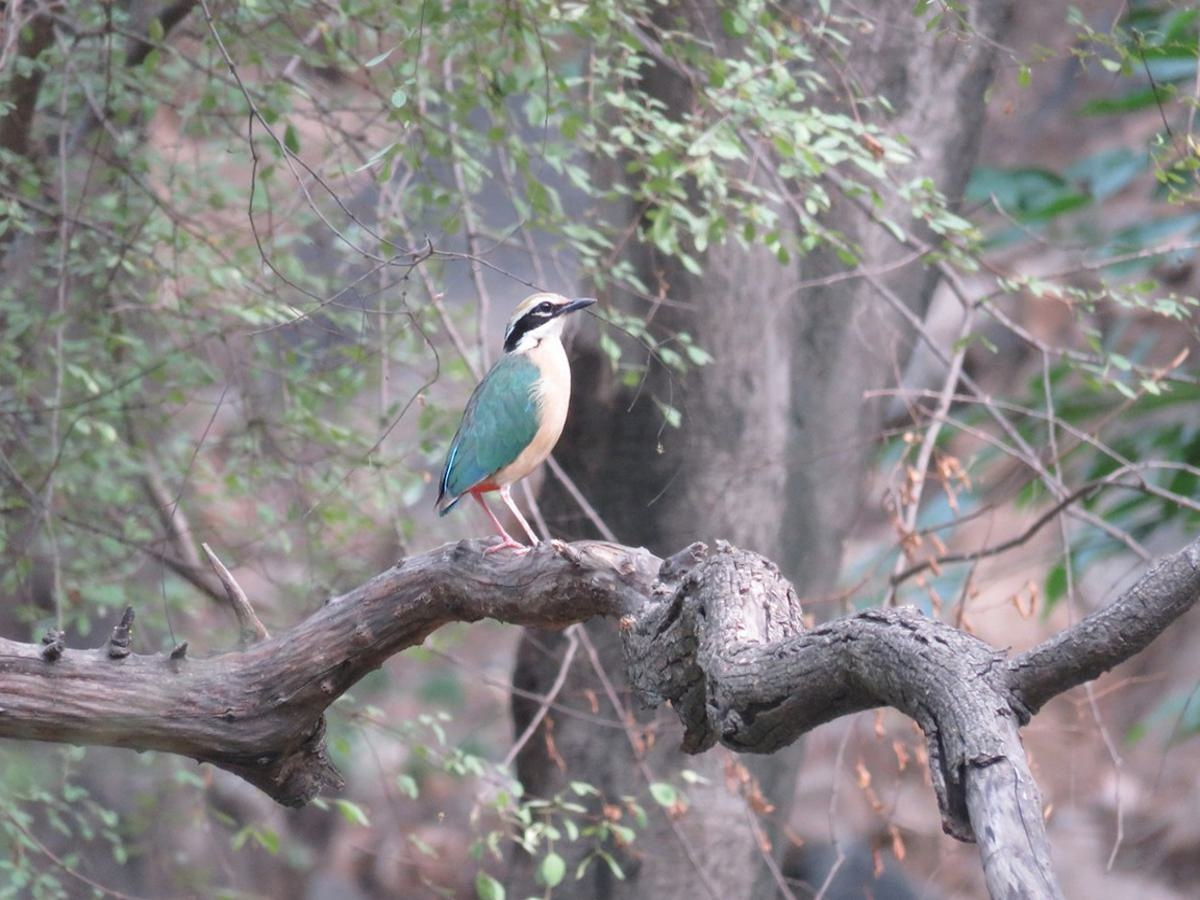pitta: (420, 275, 611, 573)
